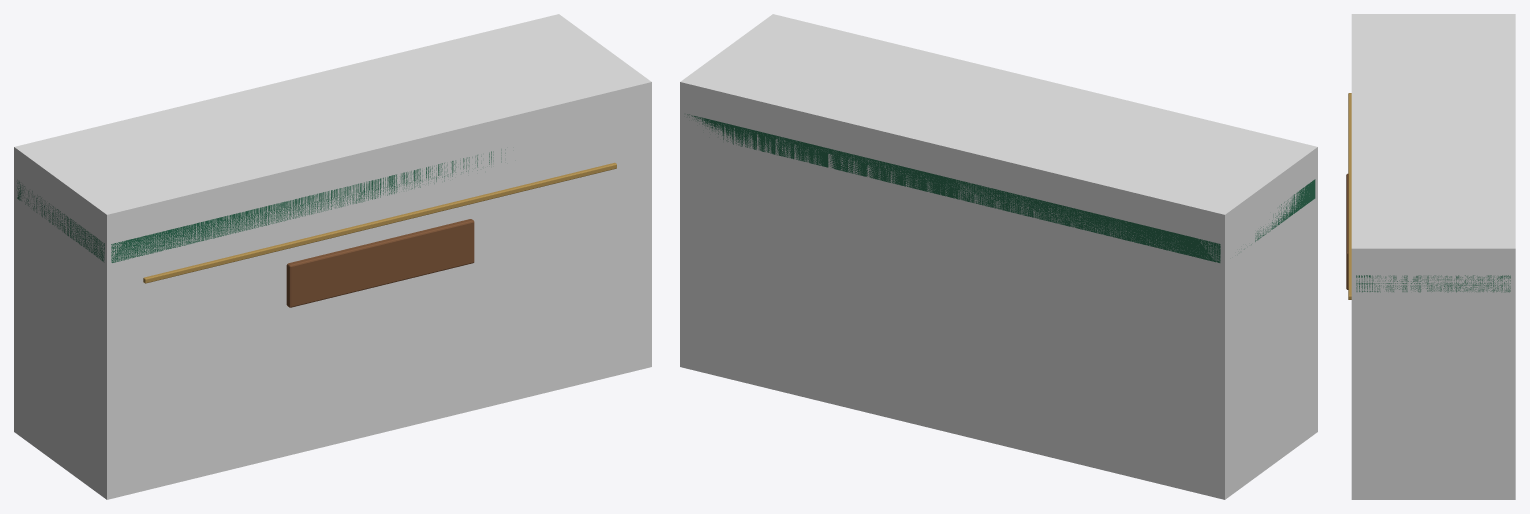
Rendered from back-counter_boutique.glb.
The picture shows the model from 3 angles, left to right: view 1: azimuth 30°, elevation 25°; view 2: azimuth 150°, elevation 25°; view 3: azimuth 270°, elevation 25°; orthographic projection. The views are drawn at different scales.
Parts seen in each view (by area): view 1: COL_back-counter, MESH_ServiceScreen, MESH_Worktop, MESH_TierTrim_01; view 2: COL_back-counter, MESH_Worktop; view 3: COL_back-counter, MESH_Worktop, MESH_TierTrim_01, MESH_ServiceScreen.
Boxes of the visible parts, x1,y1,x2,y2 form: COL_back-counter: (14, 14, 651, 499); MESH_ServiceScreen: (286, 219, 474, 307); MESH_Worktop: (17, 149, 505, 262); MESH_TierTrim_01: (143, 162, 616, 283); COL_back-counter: (680, 14, 1317, 499); MESH_Worktop: (687, 114, 1315, 262); COL_back-counter: (1351, 14, 1515, 499); MESH_Worktop: (1356, 275, 1510, 292); MESH_TierTrim_01: (1348, 93, 1351, 299); MESH_ServiceScreen: (1346, 173, 1348, 289).
Bounding box in the file's own units: 2.1 × 1.05 × 0.6402.
